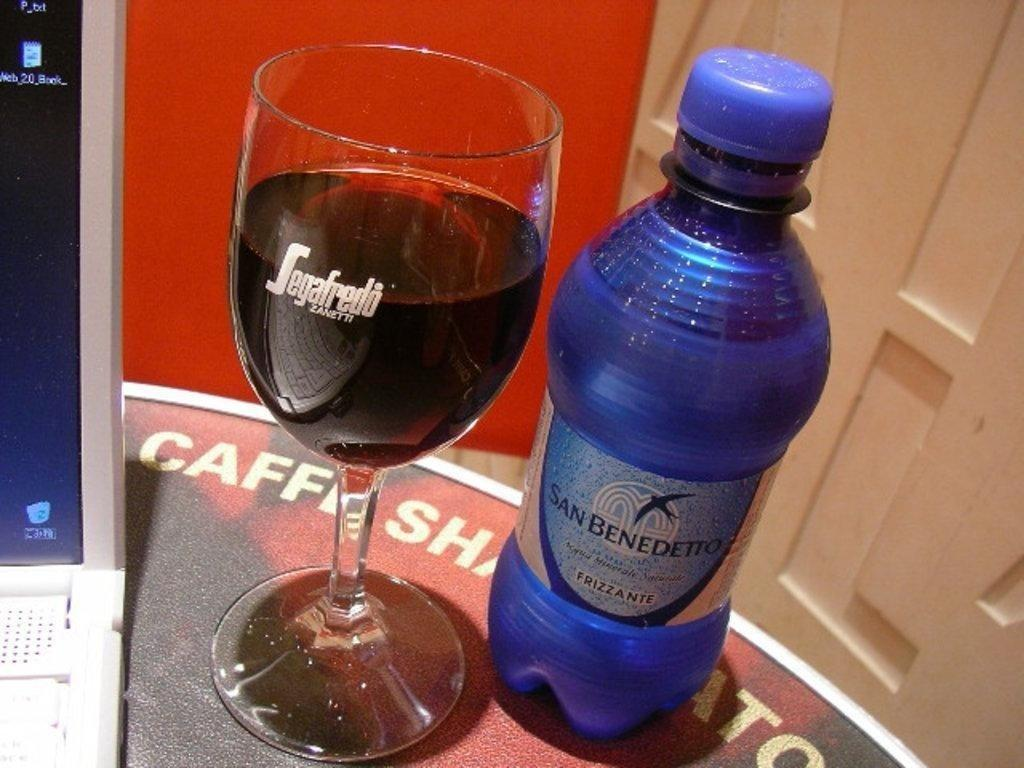bottle-plastic: (481, 51, 836, 737)
glass-wine: (213, 40, 563, 761)
